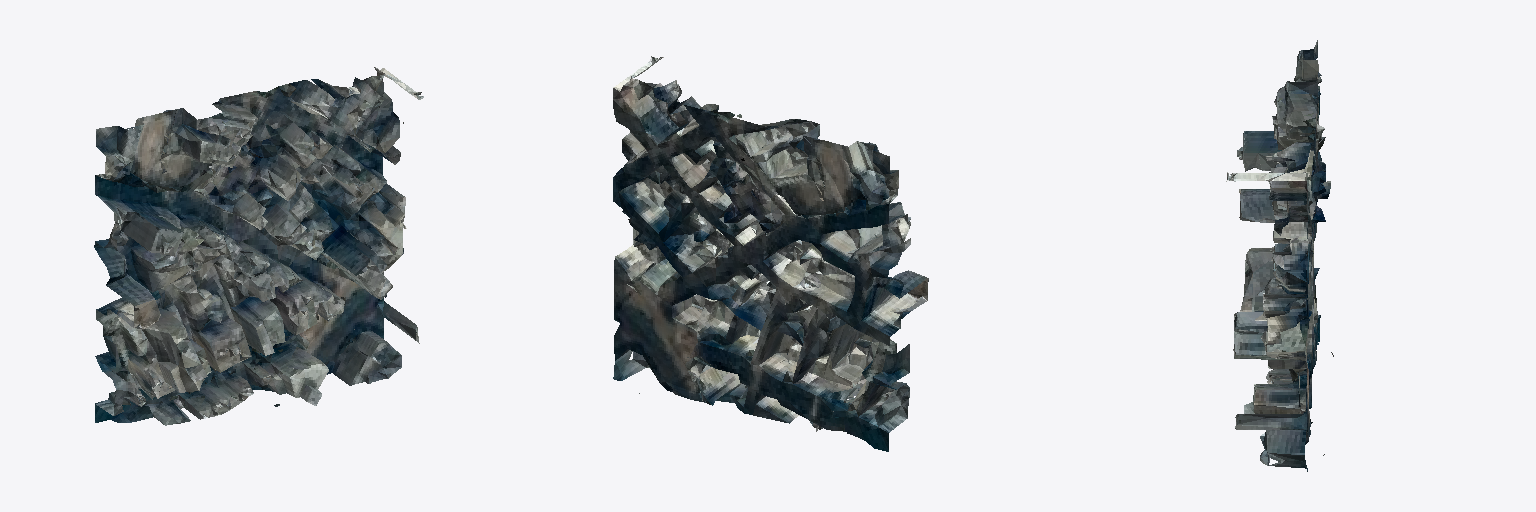
3 views of the same model, side by side, from view 1: azimuth 30°, elevation 25°; view 2: azimuth 150°, elevation 25°; view 3: azimuth 270°, elevation 25° (orthographic).
Visible parts, largest first — view 1: Tile_173078_LD_010_017_L15.osgb__Geometry_0; view 2: Tile_173078_LD_010_017_L15.osgb__Geometry_0; view 3: Tile_173078_LD_010_017_L15.osgb__Geometry_0.
Part boxes in pixels (x1,y1,x2,y2): Tile_173078_LD_010_017_L15.osgb__Geometry_0: (94, 67, 423, 425); Tile_173078_LD_010_017_L15.osgb__Geometry_0: (613, 56, 928, 451); Tile_173078_LD_010_017_L15.osgb__Geometry_0: (1226, 40, 1333, 471).
Size of the model in its own units: 255 by 255 by 84.24.
Materials: 1 (1 with a texture image).